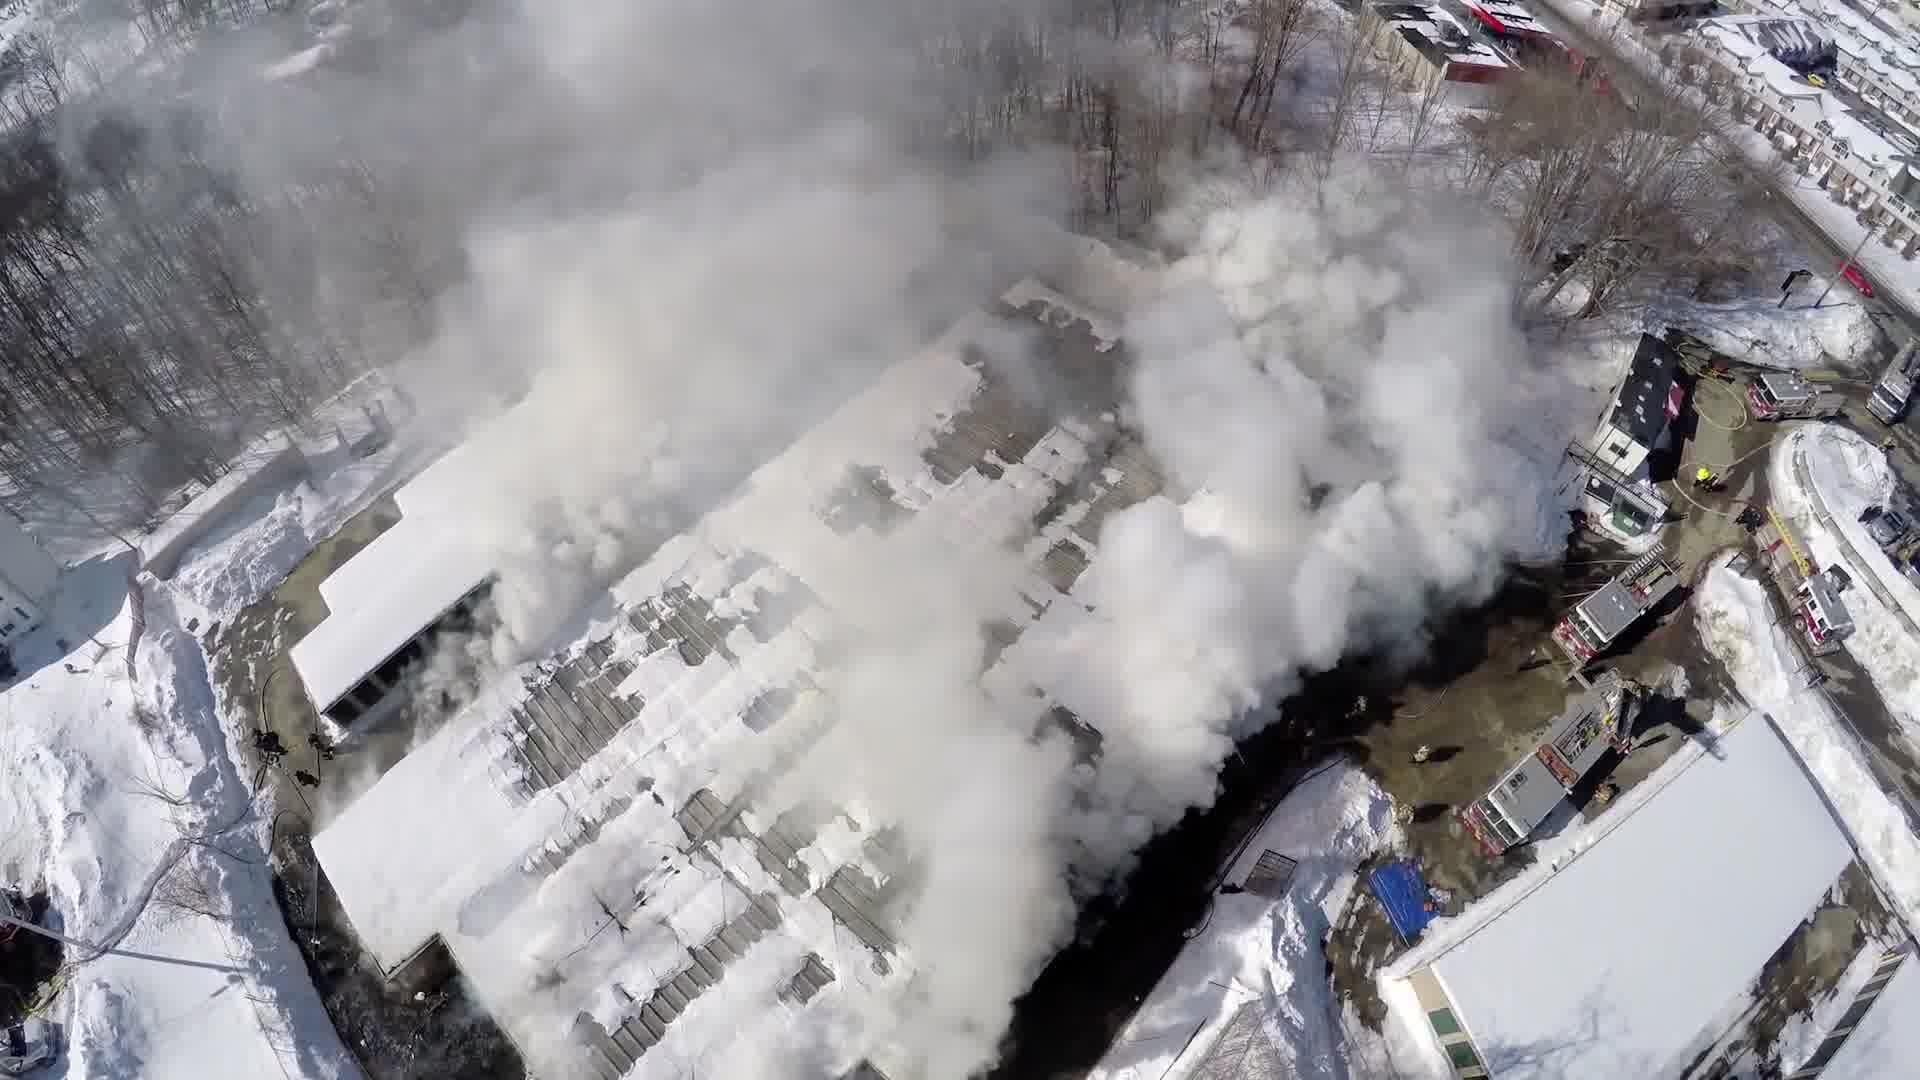smoke: (1183, 223, 1571, 653), (533, 187, 927, 434)
